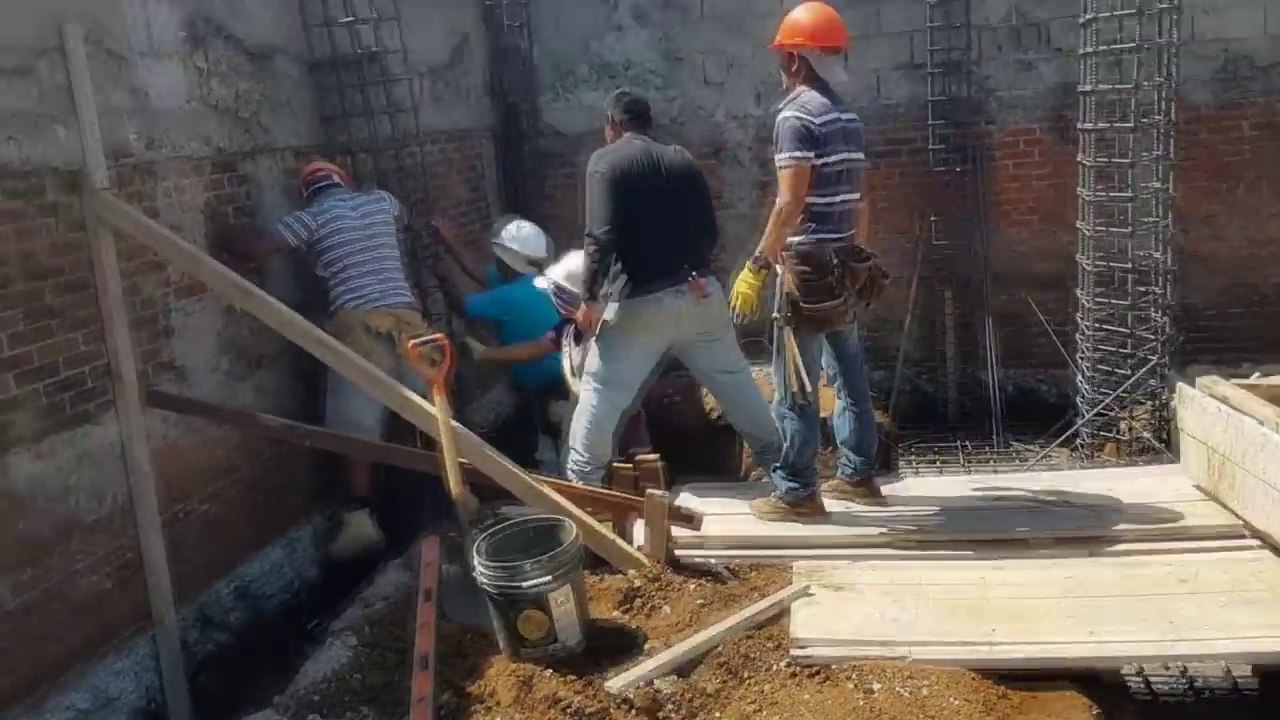helmet: (765, 4, 849, 51), (491, 220, 551, 276), (532, 248, 587, 296), (298, 160, 353, 192)
helmet-off: (601, 87, 656, 147)
helmet-on: (765, 4, 850, 98), (532, 245, 588, 323), (491, 216, 551, 288), (299, 158, 353, 206)
person: (217, 150, 438, 566), (564, 87, 786, 490), (728, 0, 885, 519), (432, 215, 566, 475), (463, 245, 600, 400)
